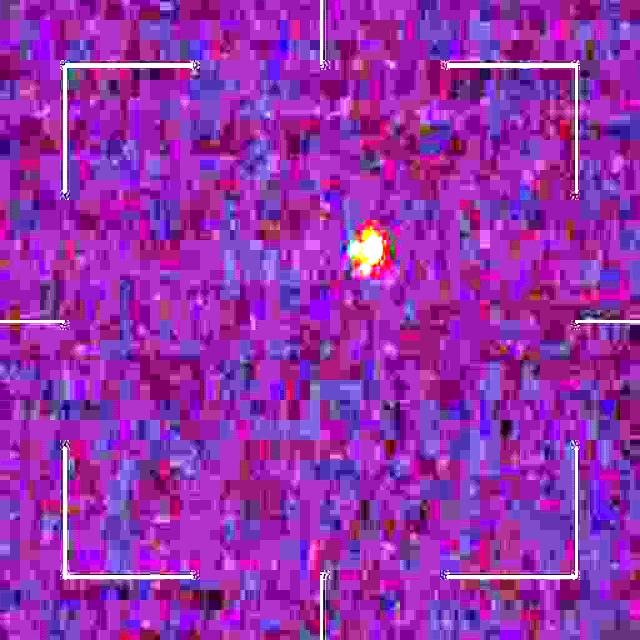bird: (349, 226, 384, 279)
